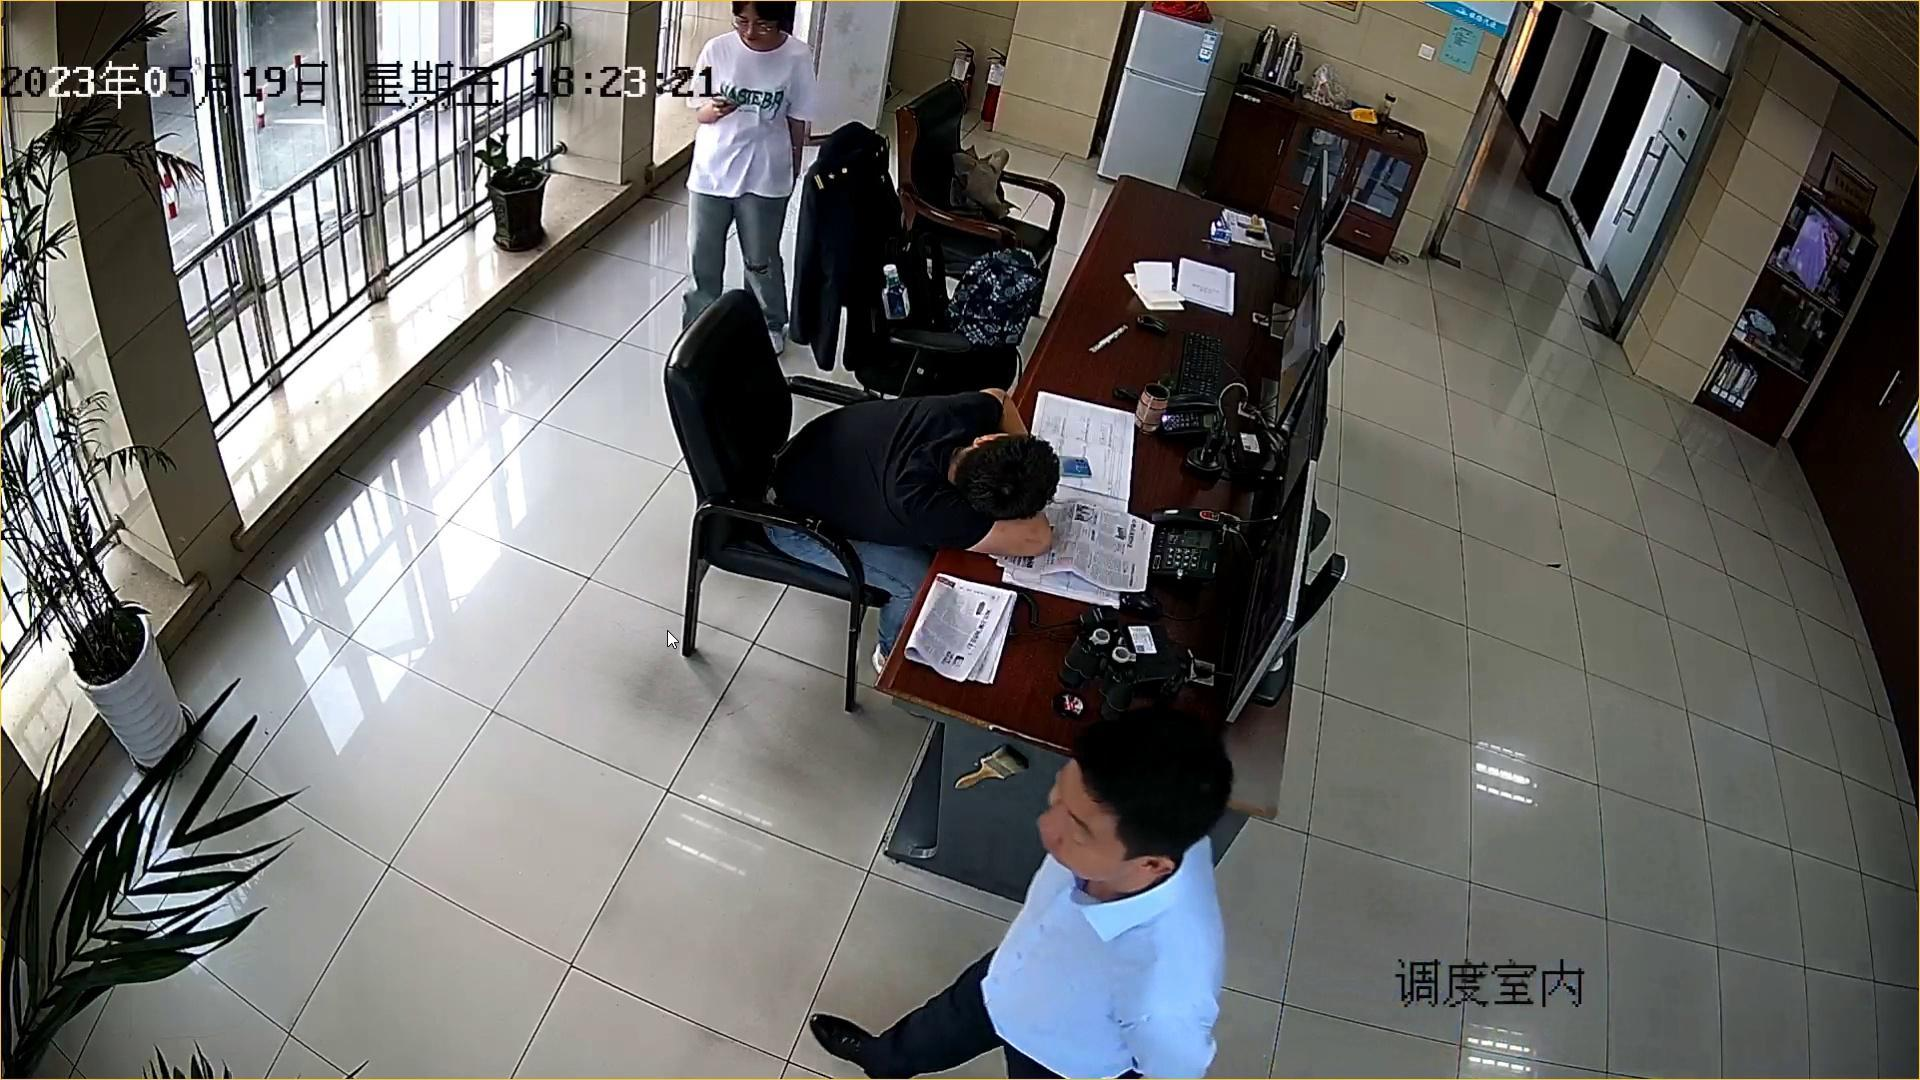sleep: (938, 382, 1069, 566)
